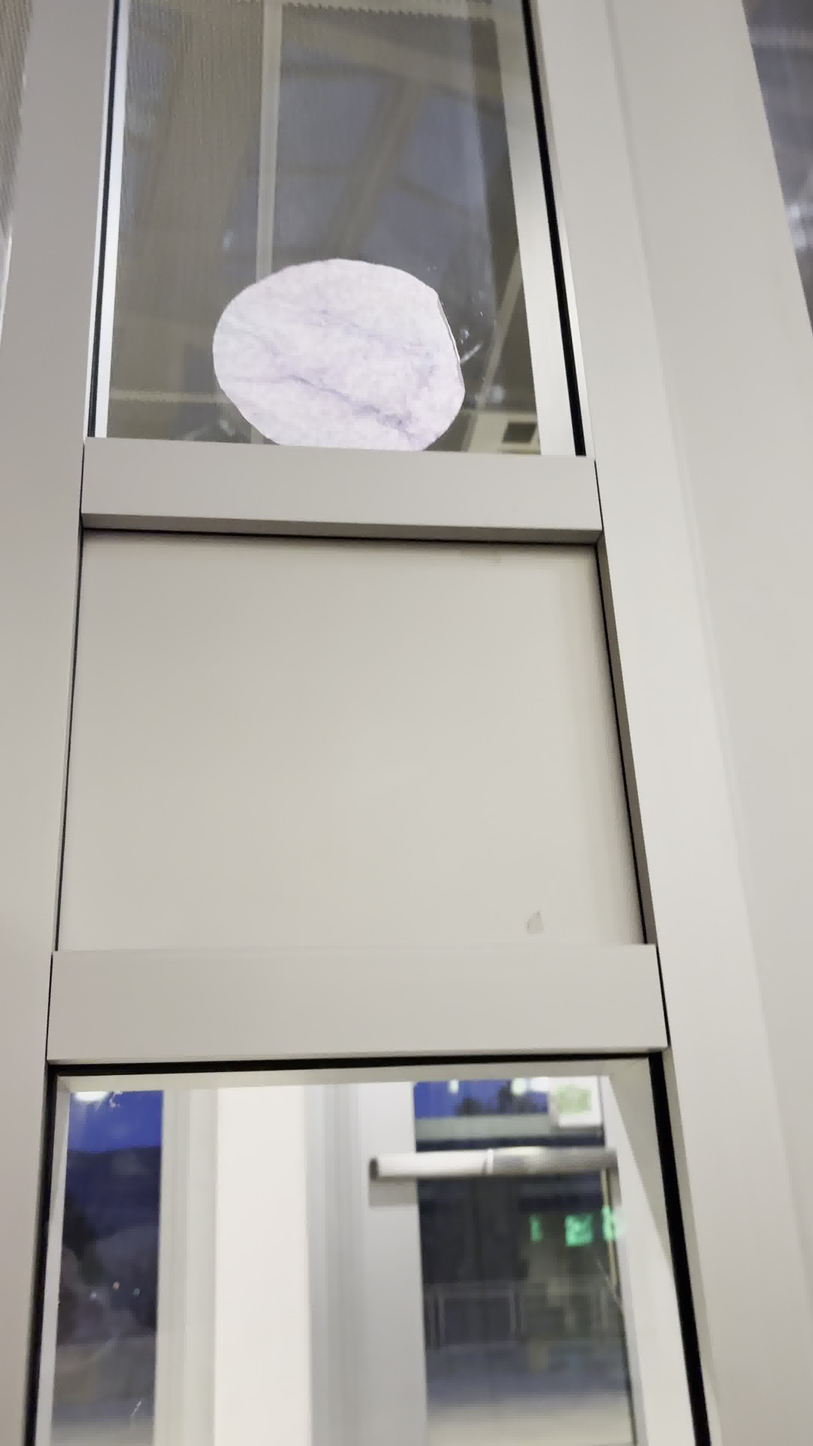Target: (209, 251, 471, 458)
